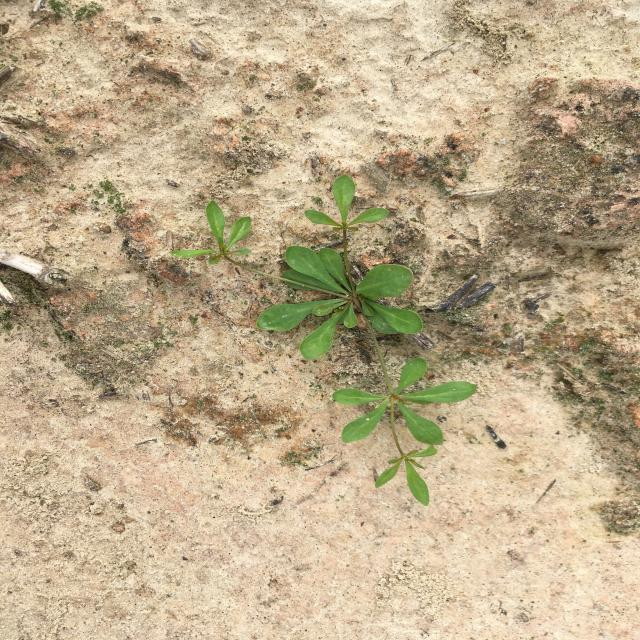Carpetweed: (170, 174, 477, 507)
